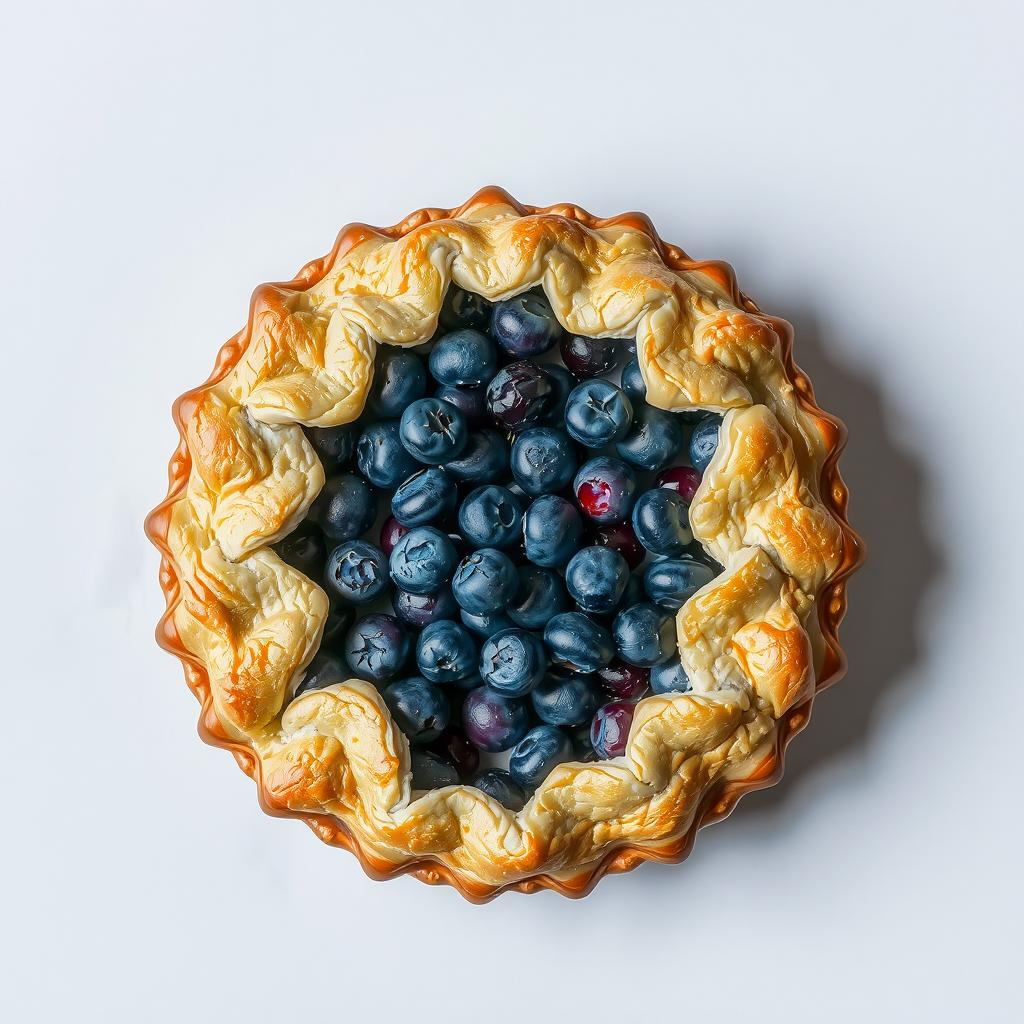pie: (134, 180, 874, 913)
